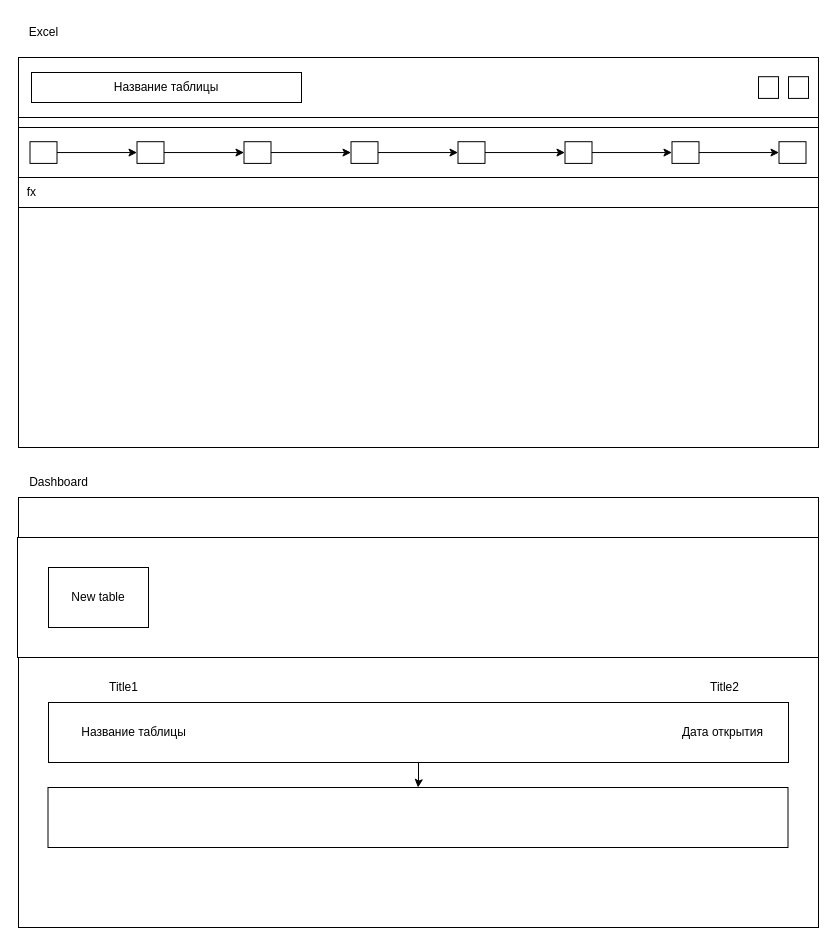
The diagram is 836 pixels wide and 945 high, and some of its shapes have lost their labels. Each missing label, with the box of its shape:
Excel Dashboard: (18, 496, 818, 538)
Table: (18, 56, 818, 448)
